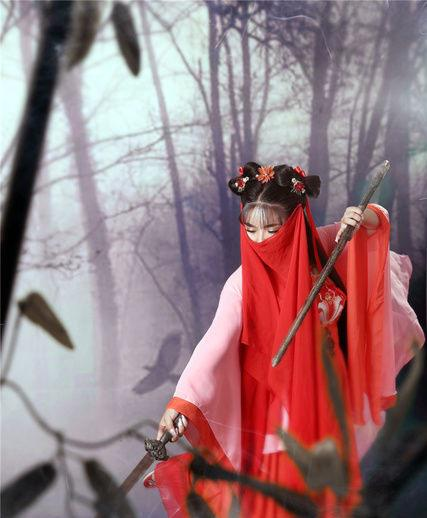WRONG: (246, 215, 296, 265)
